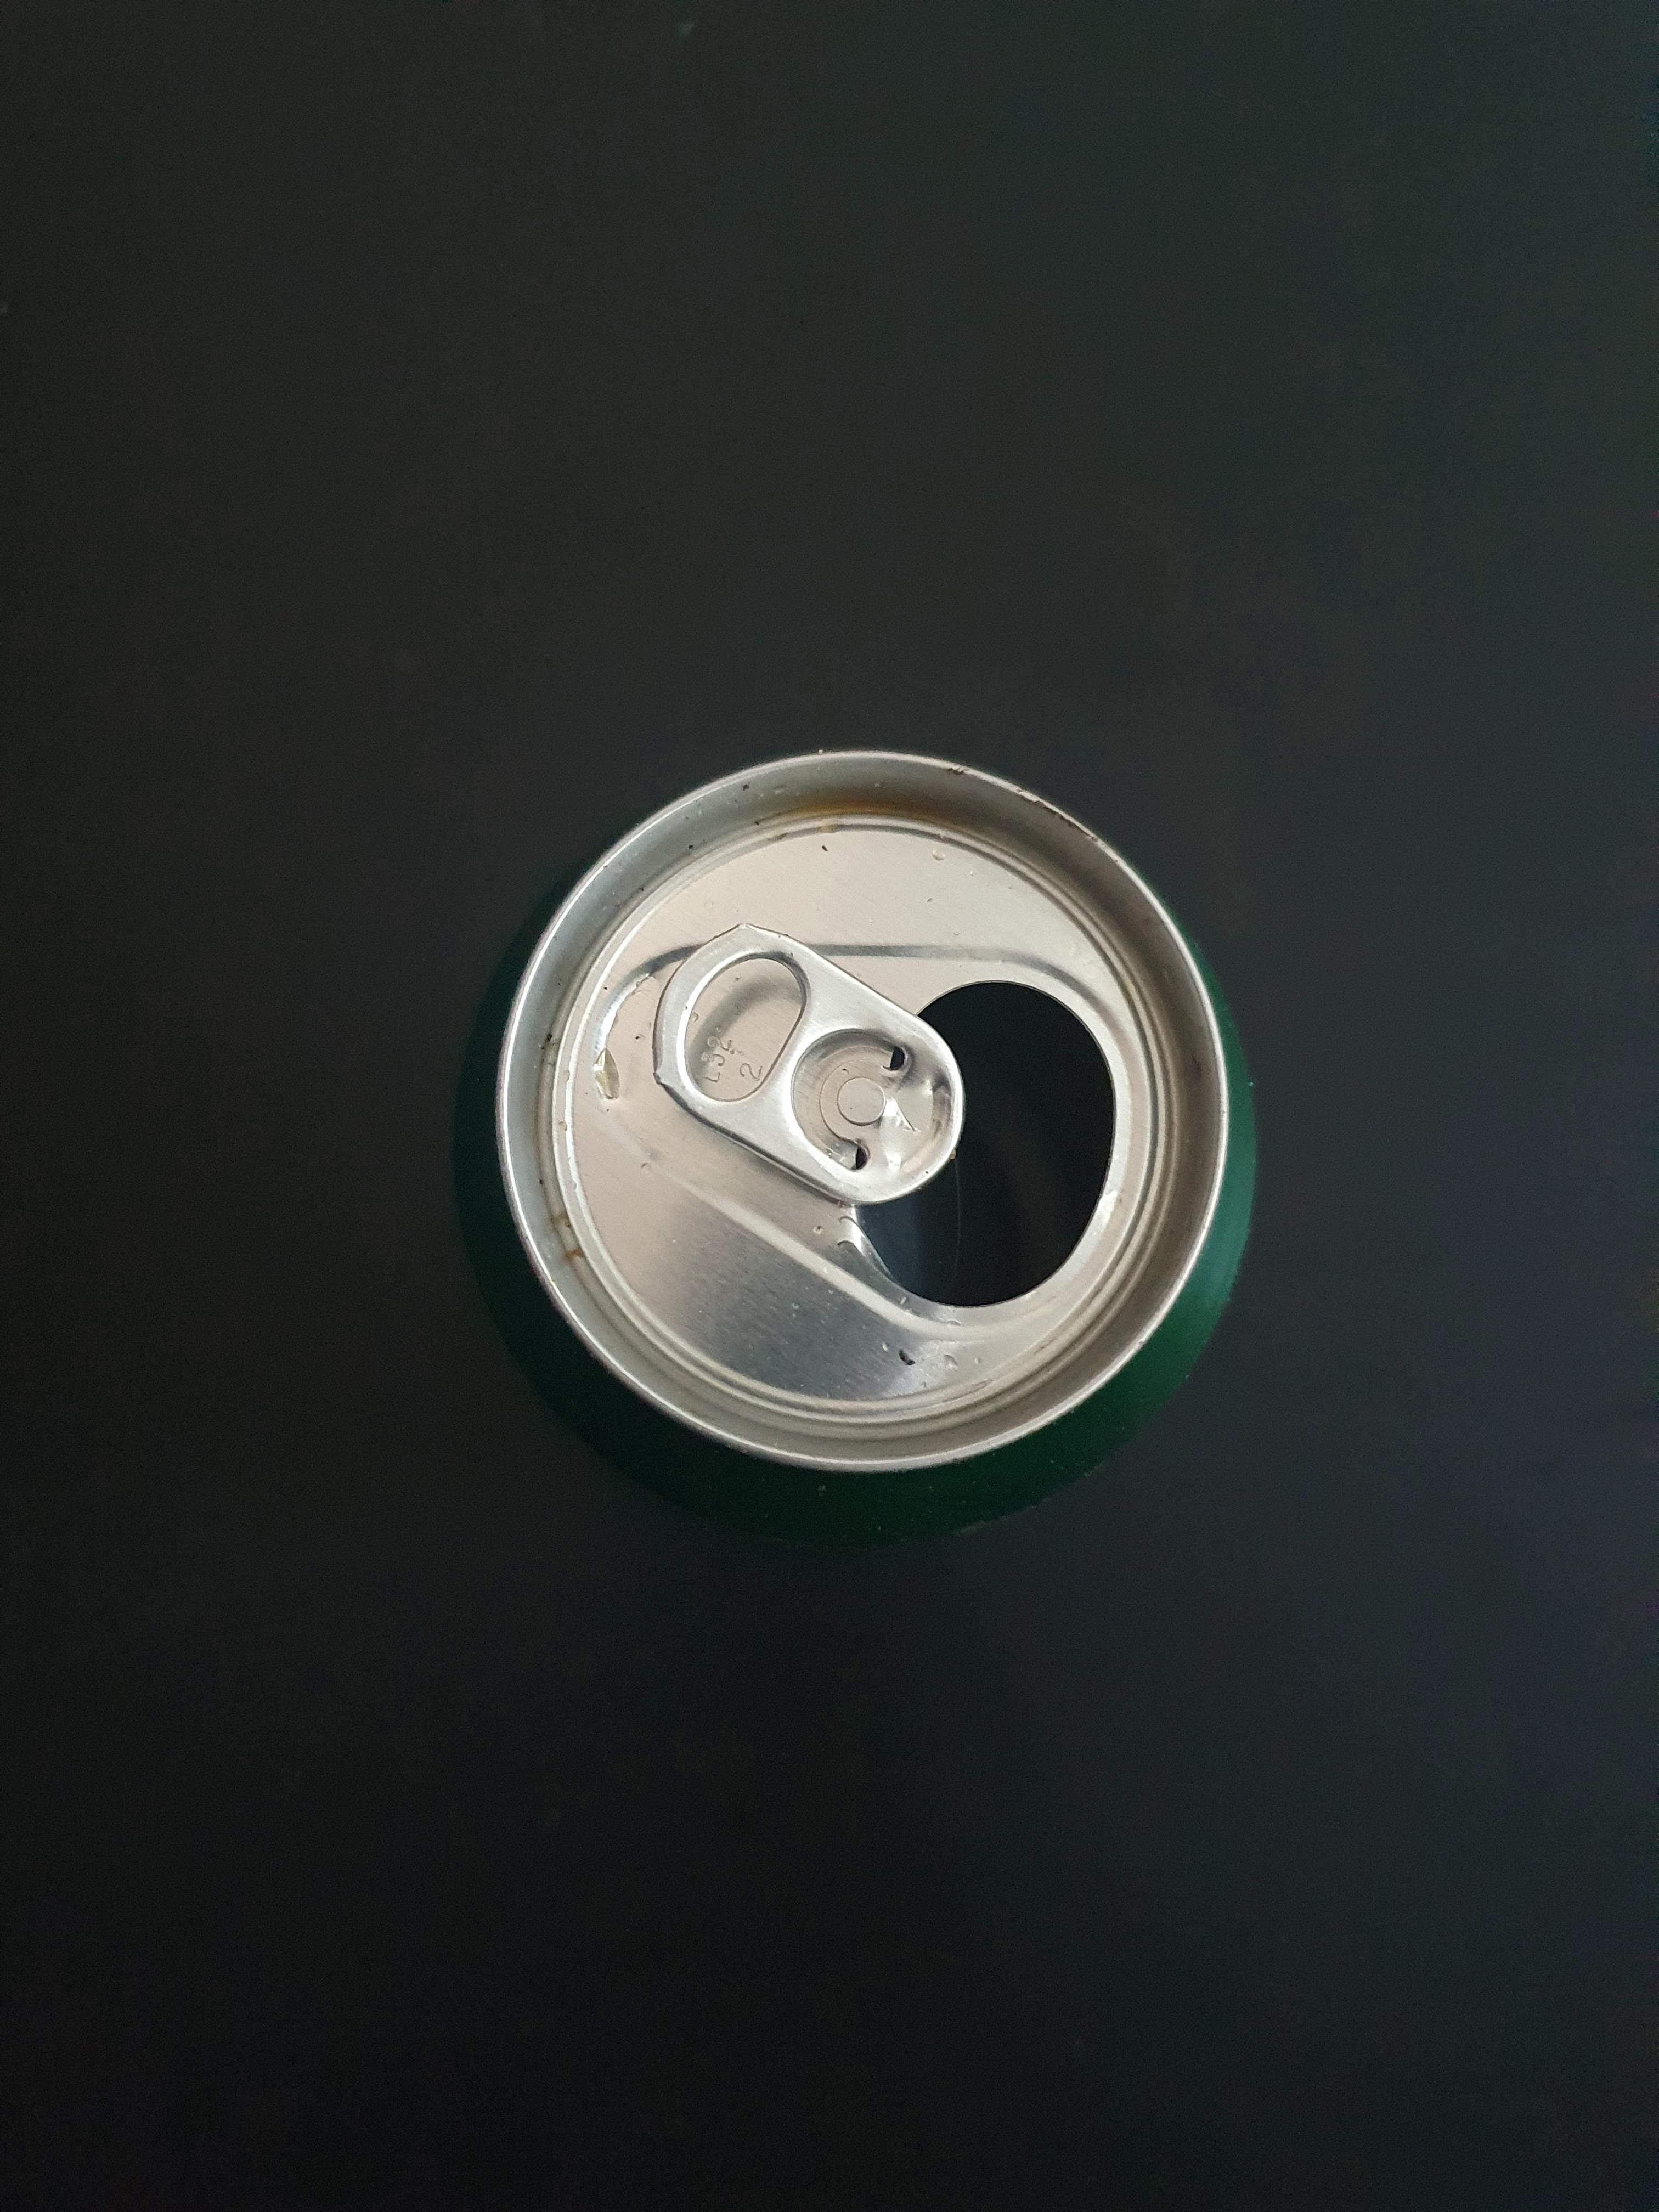metal: (437, 674, 1298, 1597)
